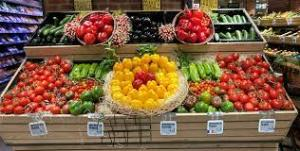bell_pepper: (110, 52, 180, 116)
tomato: (0, 53, 70, 117), (228, 52, 288, 116), (181, 92, 231, 118), (188, 80, 230, 96), (64, 79, 100, 95)
